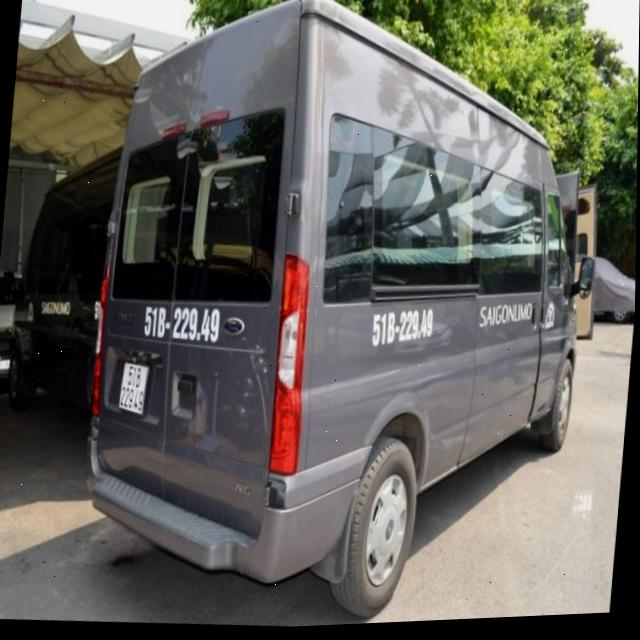car: (70, 0, 613, 632), (0, 139, 120, 444)
plate: (111, 360, 161, 419)
